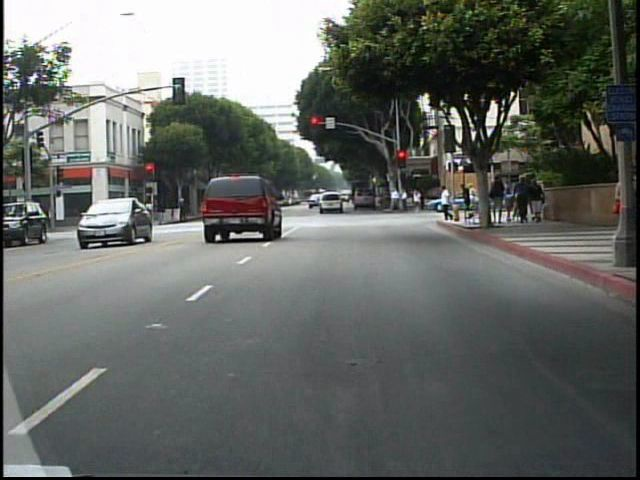person: (488, 174, 505, 226), (459, 179, 476, 222), (437, 183, 452, 225), (145, 196, 161, 226)
